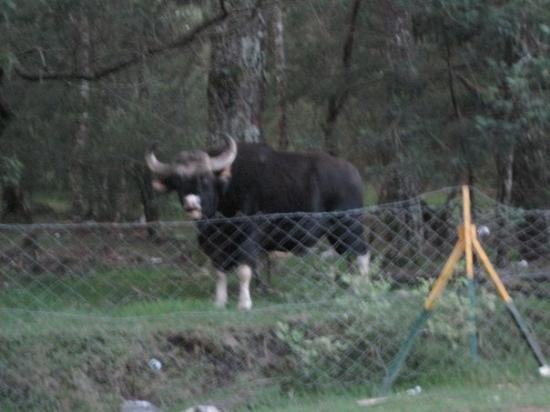bison: (138, 130, 381, 300)
